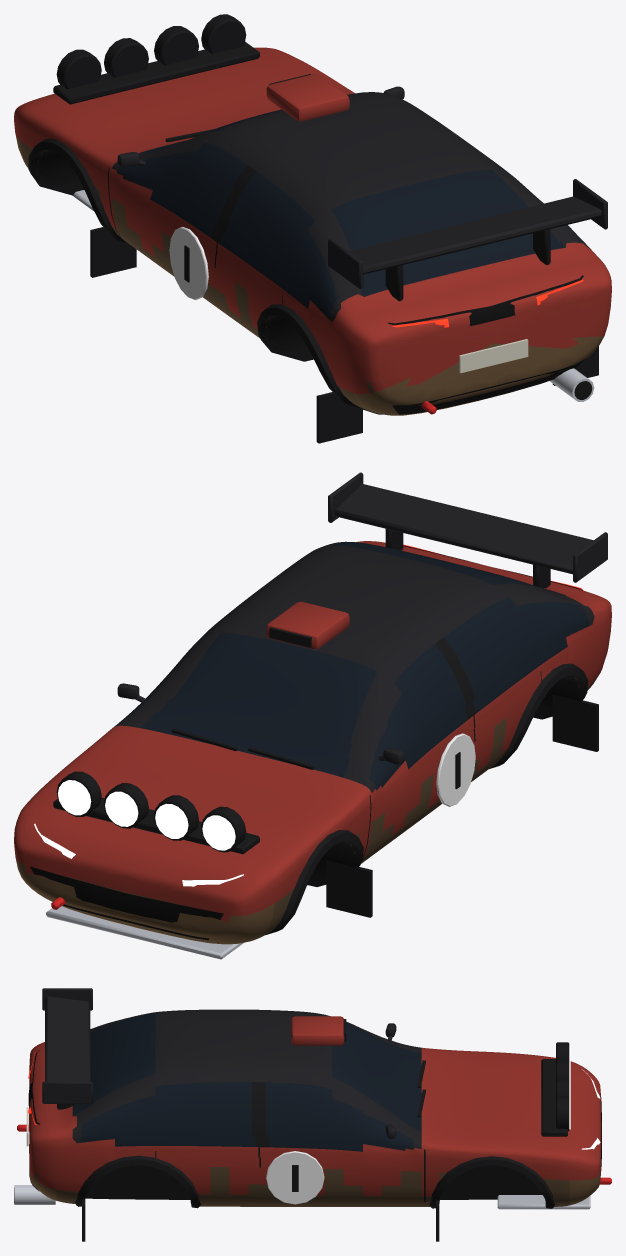
The model's file is car_banshee.glb.
3 views of the same model, one above another, from view 1: azimuth 30°, elevation 25°; view 2: azimuth 150°, elevation 25°; view 3: azimuth 270°, elevation 25° (orthographic). The views are drawn at different scales.
Visible parts, largest first — view 1: body, parts, lips, strip4, strip2; view 2: body, parts, lips, strip1; view 3: body, parts, lips.
Part boxes in pixels (x1=…): body: x1=14, y1=47, x2=611, y2=415; parts: x1=53, y1=14, x2=607, y2=443; lips: x1=28, y1=139, x2=382, y2=414; strip4: x1=392, y1=358, x2=587, y2=414; strip2: x1=388, y1=275, x2=583, y2=326; body: x1=14, y1=541, x2=611, y2=944; parts: x1=46, y1=472, x2=607, y2=959; lips: x1=265, y1=663, x2=588, y2=935; strip1: x1=30, y1=866, x2=223, y2=940; body: x1=29, y1=1009, x2=601, y2=1206; parts: x1=14, y1=988, x2=611, y2=1241; lips: x1=75, y1=1155, x2=555, y2=1208.
Bounding box in the file's own units: 1.93 × 1.36 × 4.49.
